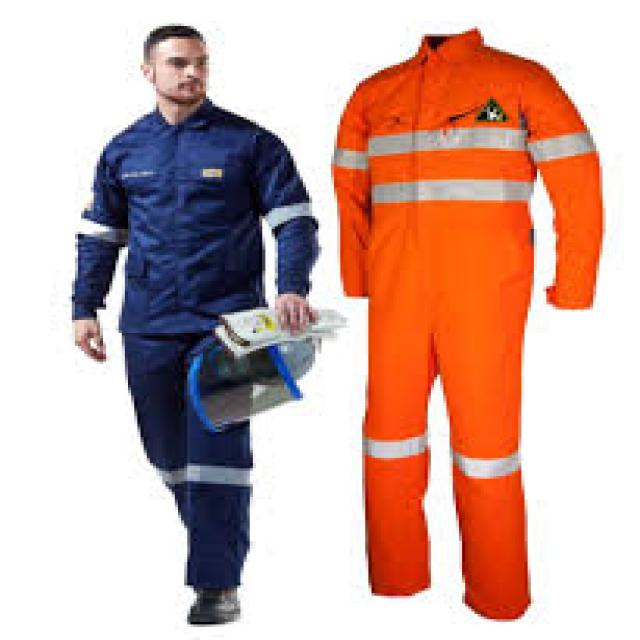vest: (336, 29, 606, 623), (81, 103, 322, 589)
